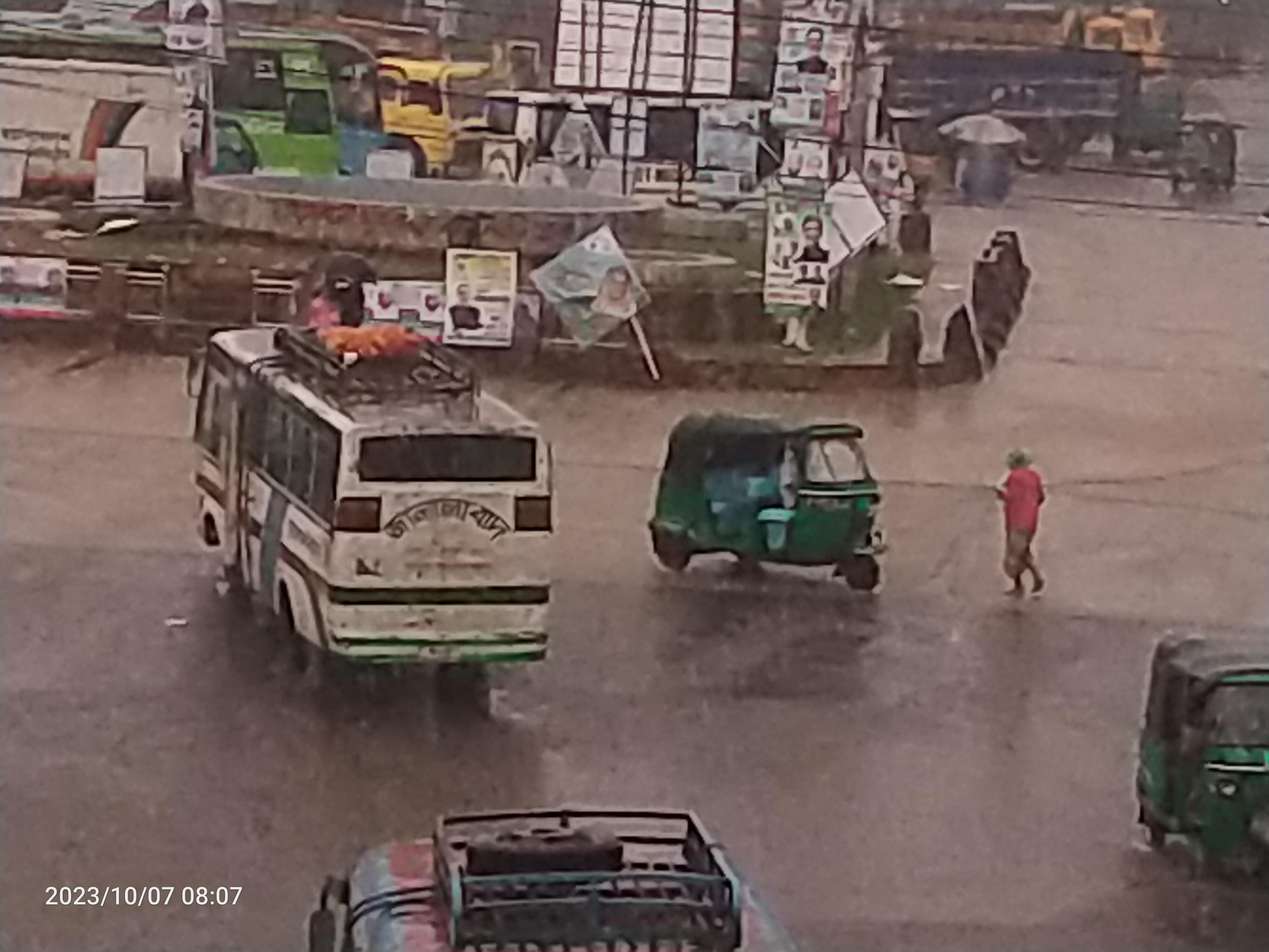Bus: (159, 288, 580, 681), (245, 784, 847, 952), (0, 0, 363, 192)
Truck: (861, 15, 1121, 190), (364, 29, 491, 181)
